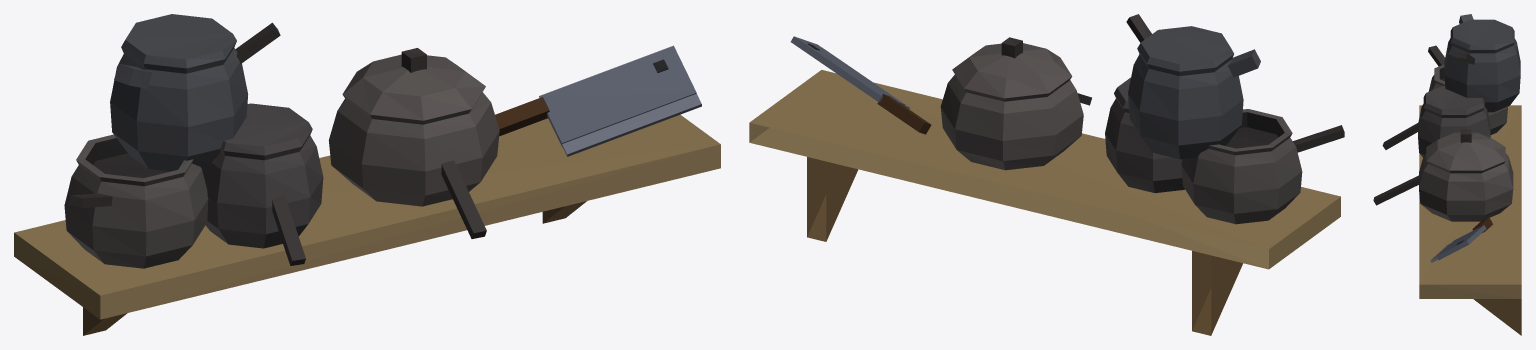
The model's file is pot_shelf.obj.
3 views of the same model, side by side, from view 1: azimuth 30°, elevation 25°; view 2: azimuth 150°, elevation 25°; view 3: azimuth 270°, elevation 25° (orthographic). The views are drawn at different scales.
Parts seen in each view (by area): view 1: Object Pot shelf; view 2: Object Pot shelf; view 3: Object Pot shelf.
Boxes of the visible parts, x1,y1,x2,y2 form: Object Pot shelf: [14, 14, 720, 335]; Object Pot shelf: [749, 14, 1344, 335]; Object Pot shelf: [1373, 14, 1521, 335].
Bounding box in the file's own units: 111 × 51.89 × 37.68.
